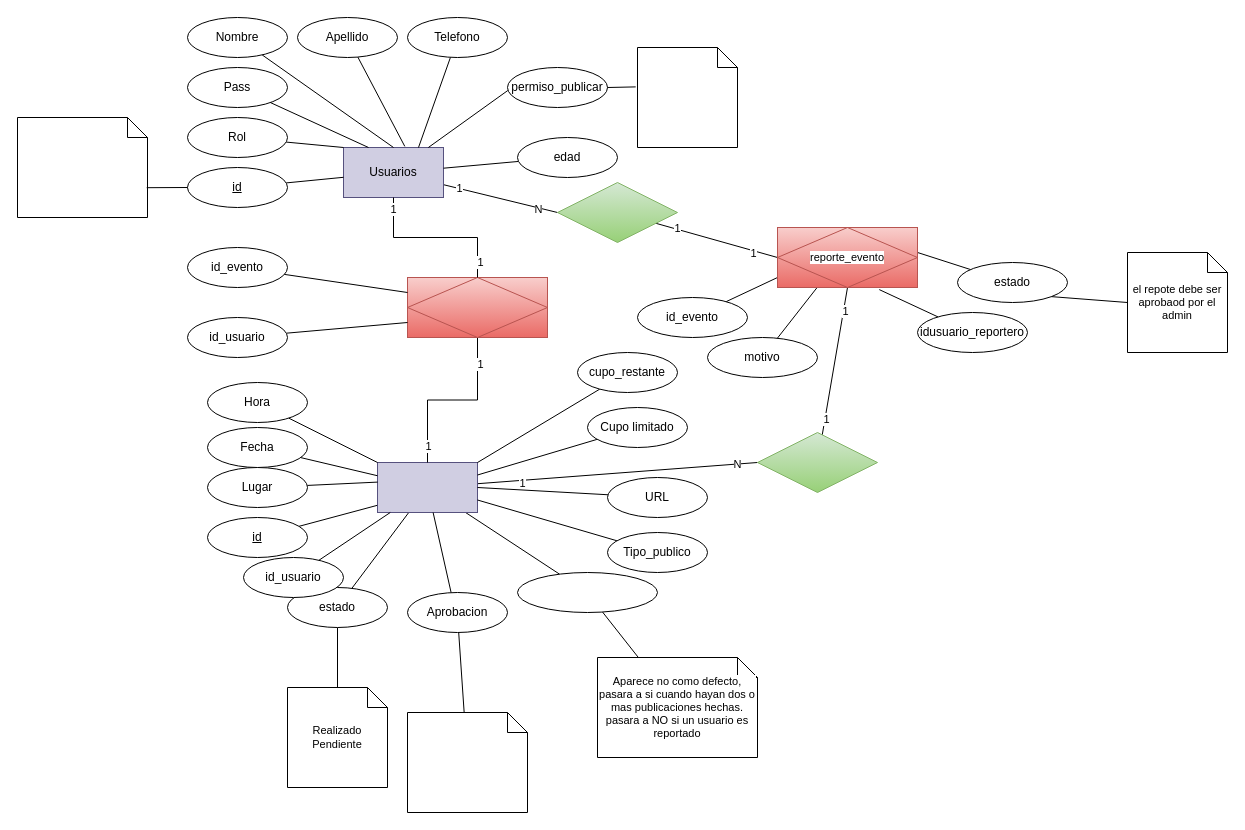
Some shapes in this 1245 by 830 pixel diagram are drawn without their labels. The shapes that lost their labels are listed below. From the top down, each one's centre as x and y in pixels, then its label:
point 687,97: esto por si reportan al usuario y el usuario tiene sus primeras publicaciones
point 82,167: 1> administrador 2> Publicador 3> usuario registrado
point 617,212: crear
point 477,307: usuario_evento
point 817,462: reciben
point 427,487: Eventos
point 587,592: publicacionautomatica
point 467,762: Debe ser aprobada por un administrador si sus publicaciones son < 2
